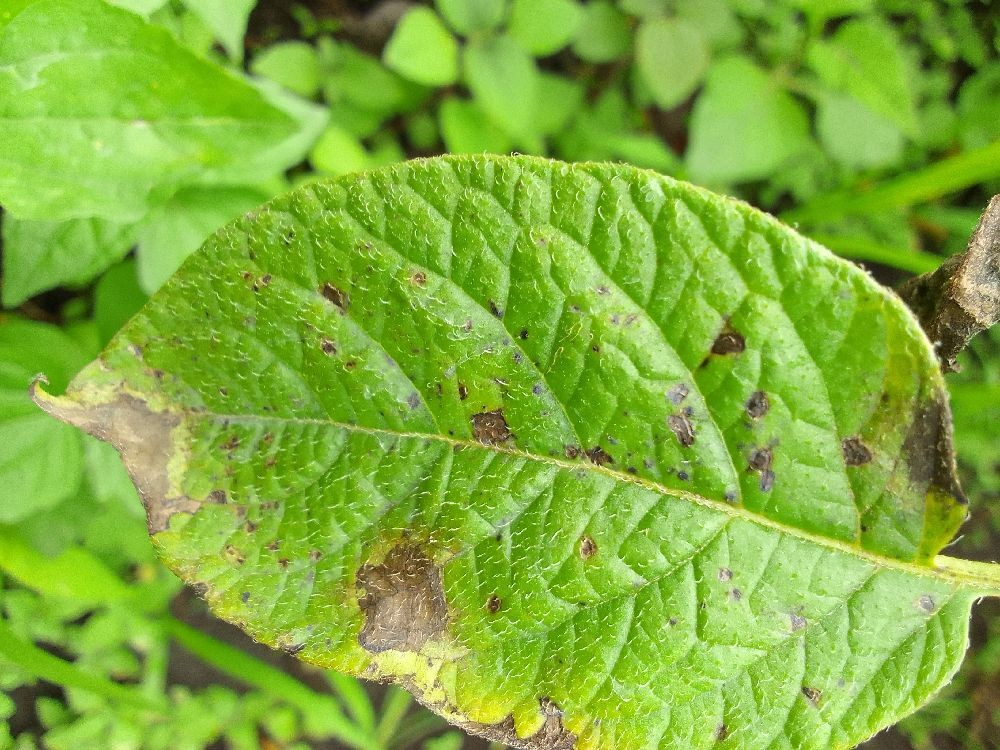late_blight: (57, 365, 344, 708), (881, 372, 1000, 584), (339, 515, 470, 670), (221, 0, 454, 82)
